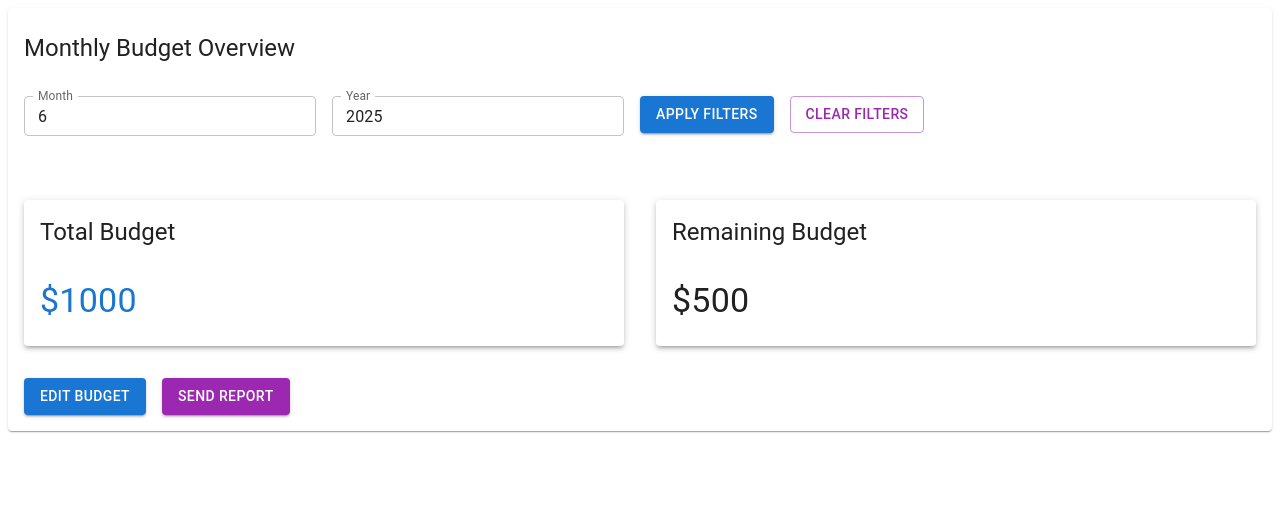
Scenario: BudgetOverview Component › renders 'Edit Budget' button and handles updating a budget
Click the button "Edit Budget" at point(85, 396), box [24,378,146,414]
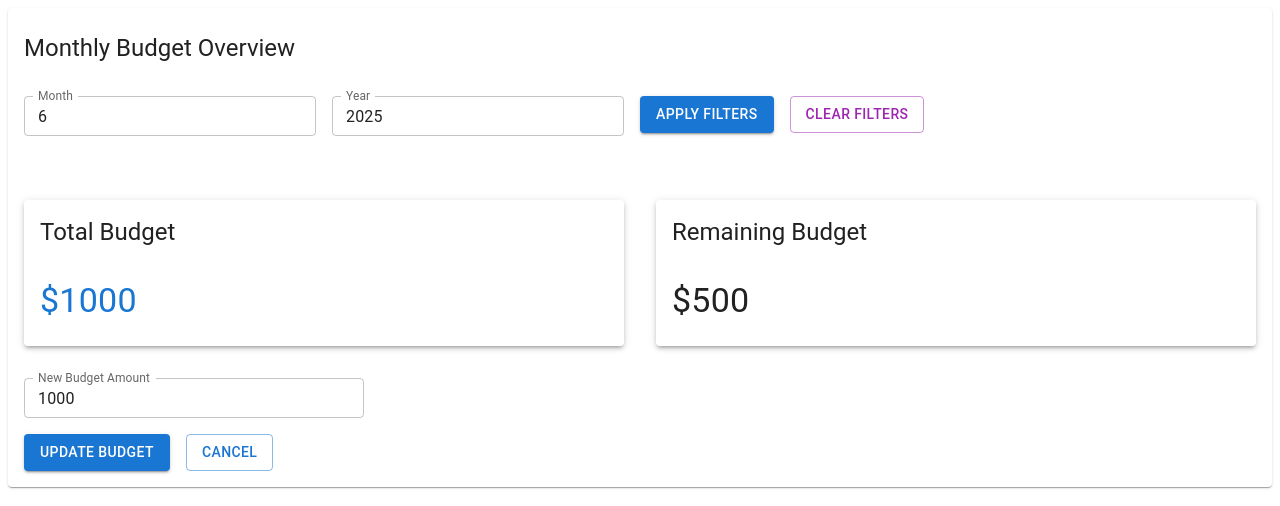
Replace the text in the number field labelled "New Budget Amount" with "1500" at point(194, 398), box [24,378,364,418]
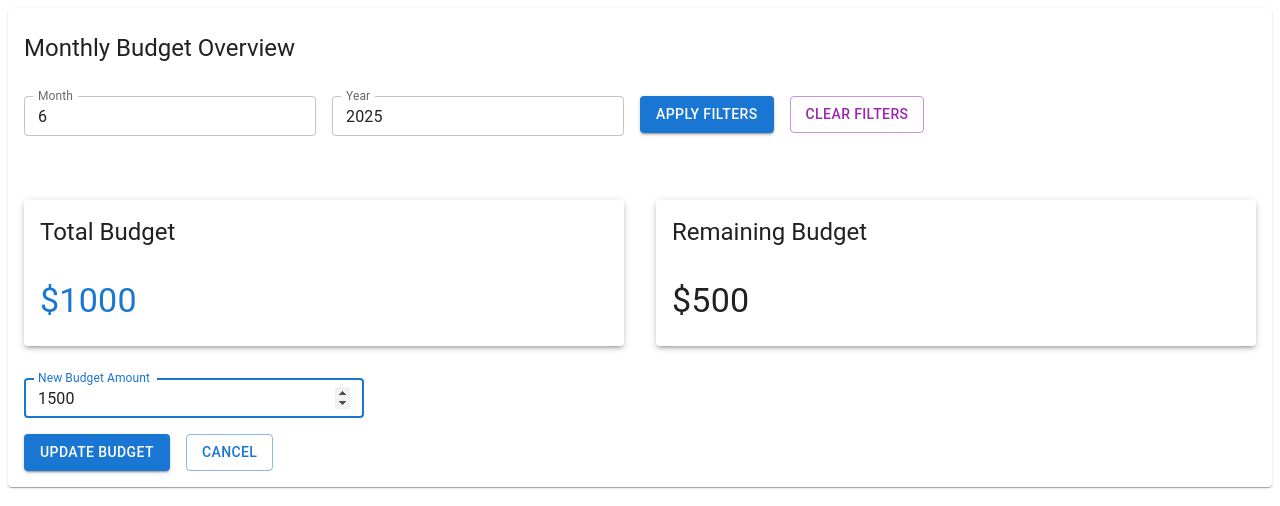
Click the button "Update Budget" at point(97, 452), box [24,434,170,470]
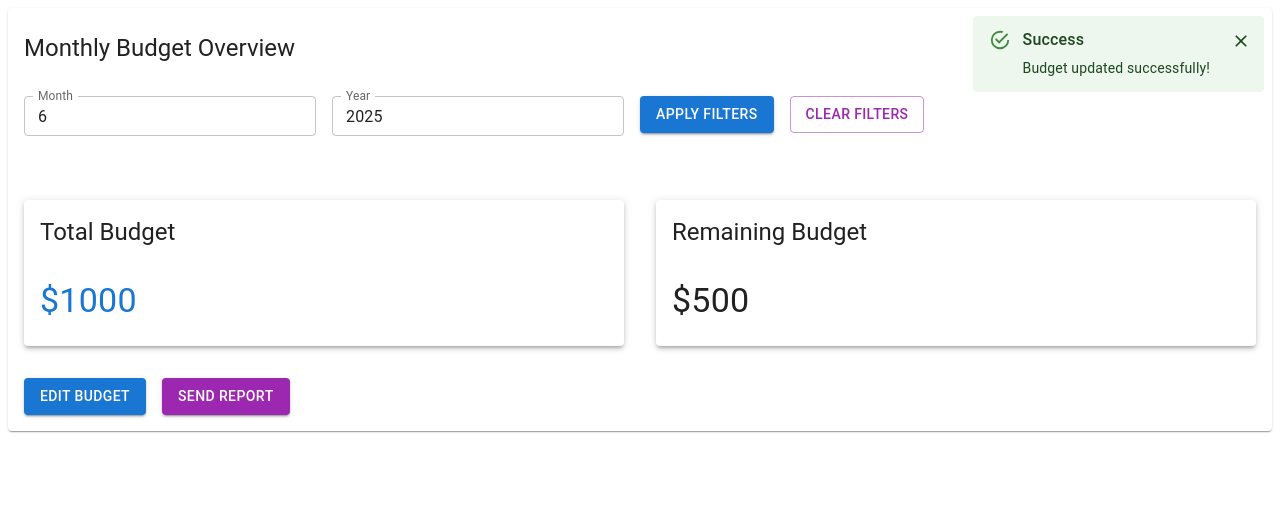
Result: the button "Update Budget" is gone
